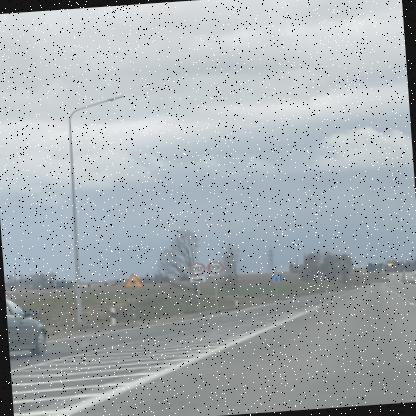speedlimit: (190, 260, 206, 274), (210, 260, 227, 272)
